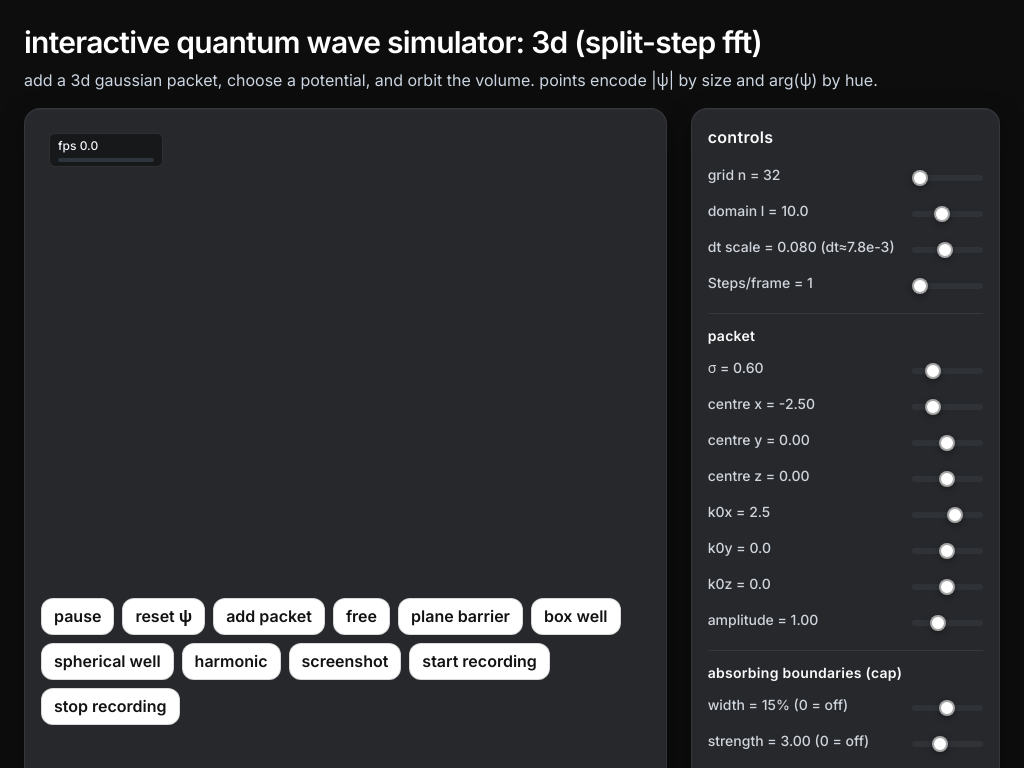
Test case: QuantumWaveEngine (mocked visualisation) › overlay switches to paused when toggled and to idle when tab is hidden
This screenshot has width=1024, height=768.
Click the button "pause" at [78, 616], box [41,598,114,635]
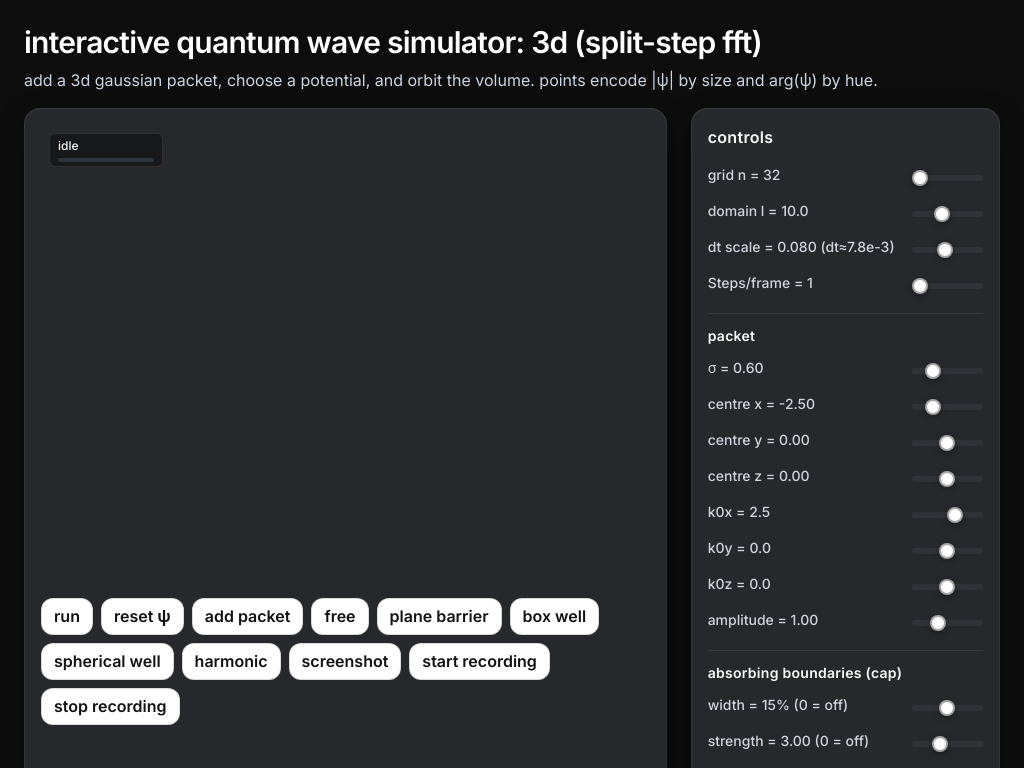
Expected: the text "idle" is shown, [58,138,78,153]
Click the button "run" at [67, 616], box [41,598,93,635]
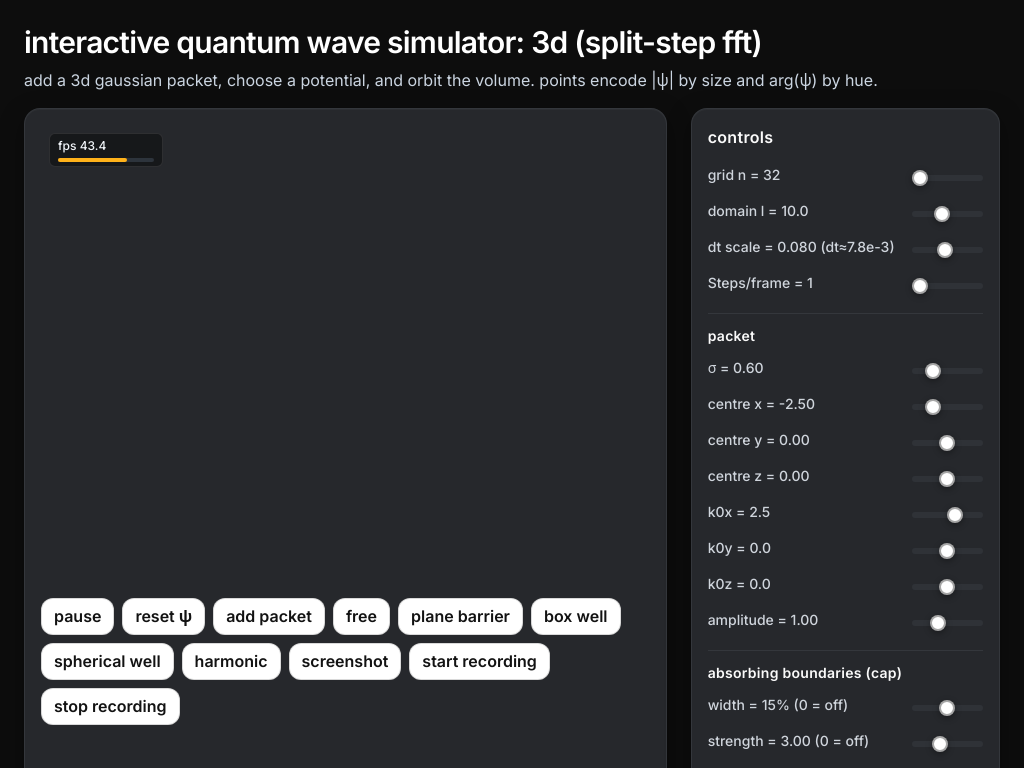
Expected: the text "fps 43.4" is shown, [58,138,106,153]
